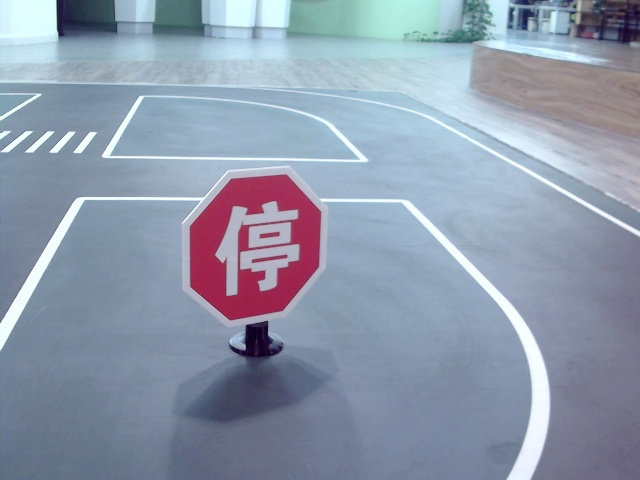stop: (215, 200, 298, 297)
